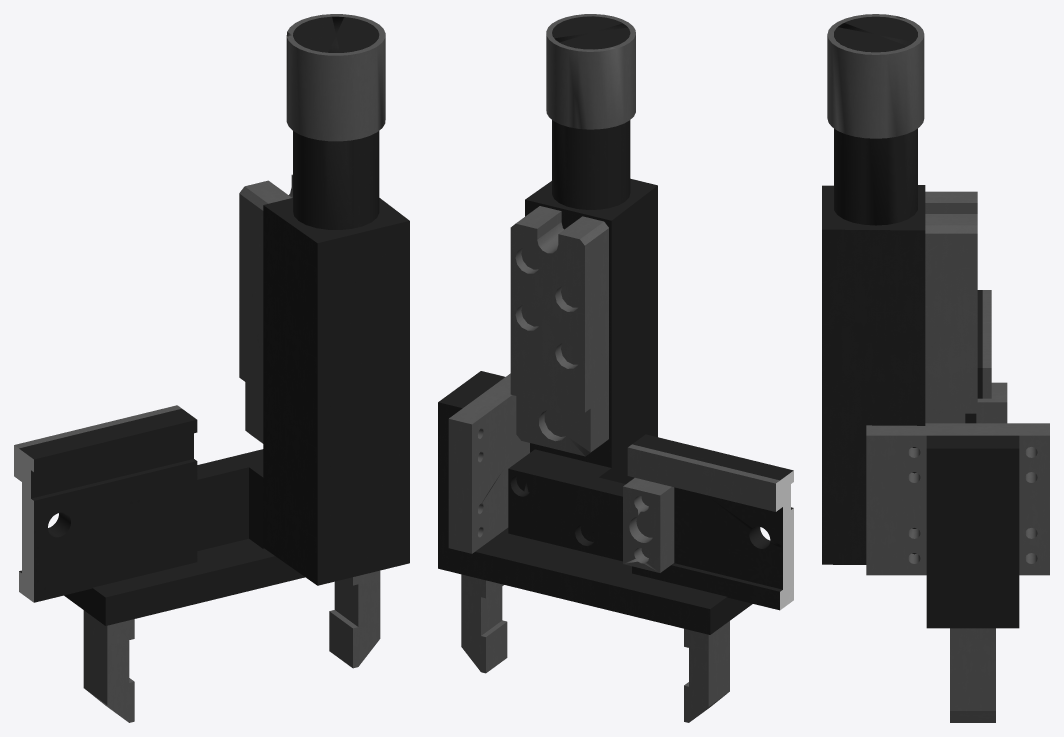
Rendered from CollectionStation_Cube02.glb.
The picture shows the model from 3 angles, left to right: view 1: azimuth 30°, elevation 25°; view 2: azimuth 150°, elevation 25°; view 3: azimuth 270°, elevation 25°; orthographic projection. The views are drawn at different scales.
Parts seen in each view (by area): view 1: color-47[5].001; view 2: color-47[5].001; view 3: color-47[5].001.
Boxes of the visible parts, left/top/right/bottom form: color-47[5].001: left=14, top=14, right=409, bottom=722; color-47[5].001: left=438, top=14, right=793, bottom=722; color-47[5].001: left=822, top=14, right=1049, bottom=722.
Bounding box in the file's own units: 0.1314 × 0.2363 × 0.074.
Materials: 2 (2 with a texture image).
